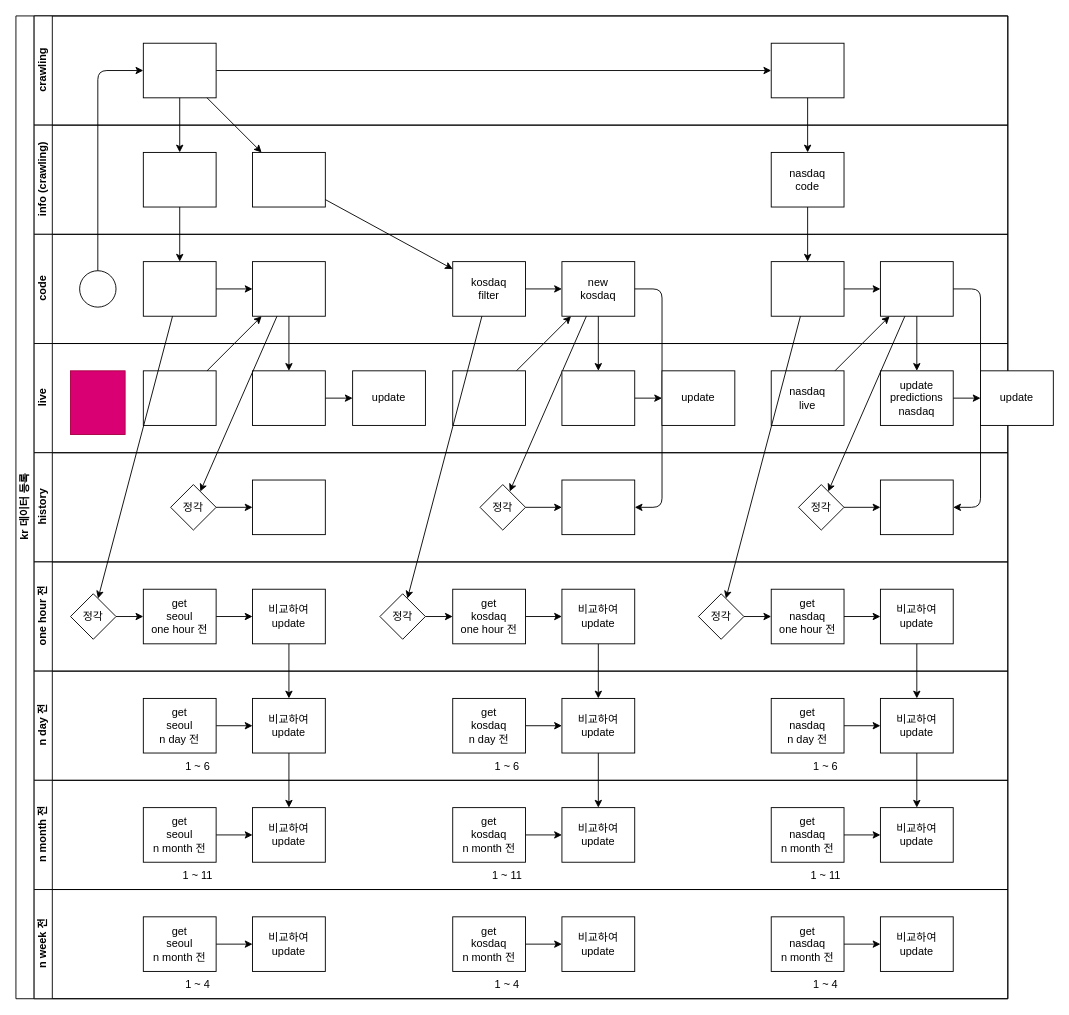
Some shapes in this 1069 by 1015 pixel diagram are drawn without their labels. The shapes that lost their labels are listed below. From the top down, each one's centre as x and y in pixels, then its label:
At [179,70]: "crawling kr".
At [807,70]: "crawling us".
At [179,179]: "seoul code".
At [288,179]: "kosdaq code".
At [179,288]: "seoul filter".
At [288,288]: "new seoul".
At [807,288]: "nasdaq filter".
At [916,288]: "new nasdaq".
At [97,402]: "라이브 데이터는 supabase 가 좋을듯".
At [179,397]: "seoul live".
At [288,397]: "update predictions seoul".
At [489,397]: "kosdaq live".
At [598,397]: "update predictions kosdaq".
At [288,507]: "seoul insert".
At [598,507]: "kosdaq insert".
At [916,507]: "nasdaq insert".
